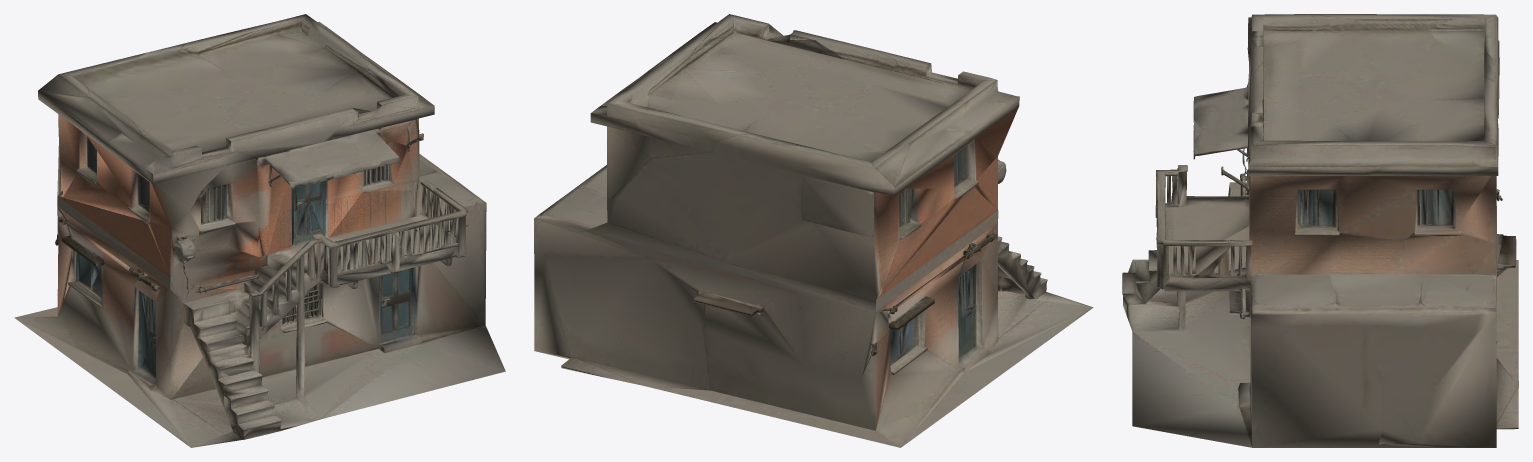
Rendered from lajes_casa_escada.glb.
3 views of the same model, side by side, from view 1: azimuth 30°, elevation 25°; view 2: azimuth 150°, elevation 25°; view 3: azimuth 270°, elevation 25° (orthographic). The views are drawn at different scales.
Parts seen in each view (by area): view 1: mesh_node; view 2: mesh_node; view 3: mesh_node.
Boxes of the visible parts, x1=… form: mesh_node: x1=14, y1=14, x2=505, y2=447; mesh_node: x1=534, y1=14, x2=1093, y2=447; mesh_node: x1=1122, y1=14, x2=1518, y2=447.
Bounding box in the file's own units: 8.95 × 6 × 8.08.
1 material, 1 textured.
